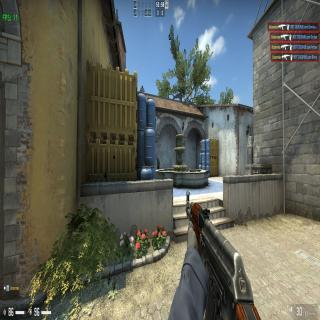CT-Body: (157, 158, 160, 170)
CT-Head: (158, 158, 158, 162)
